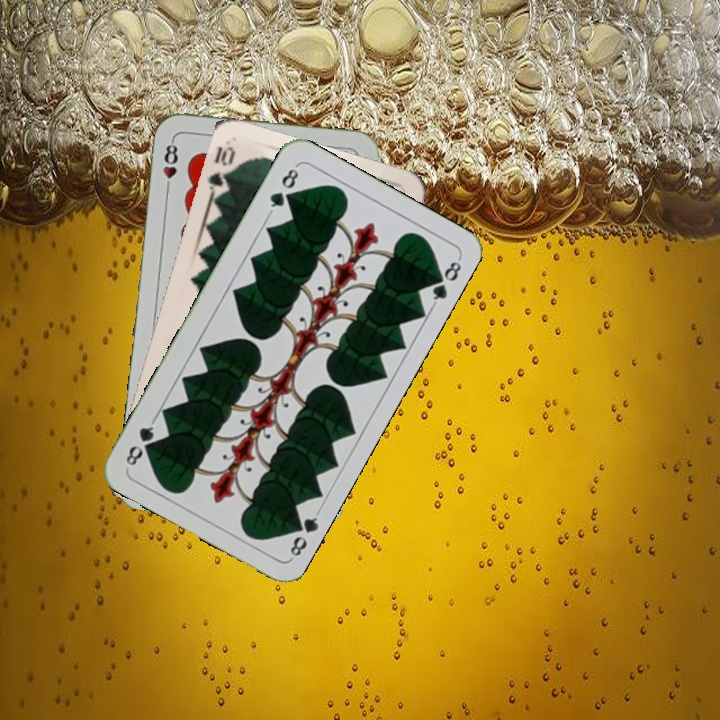G10: (204, 141, 238, 199)
G8: (285, 507, 323, 561), (265, 162, 301, 216)
H8: (159, 136, 181, 195)
